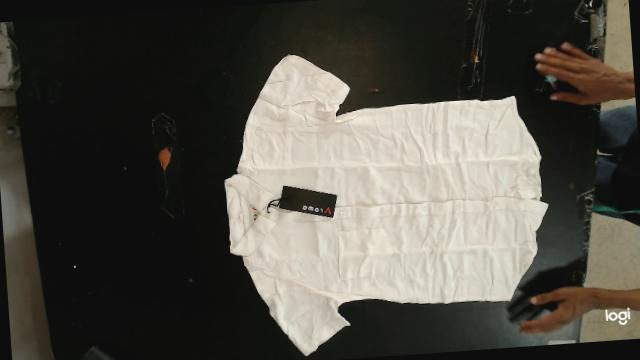new-garment: (224, 54, 547, 355)
